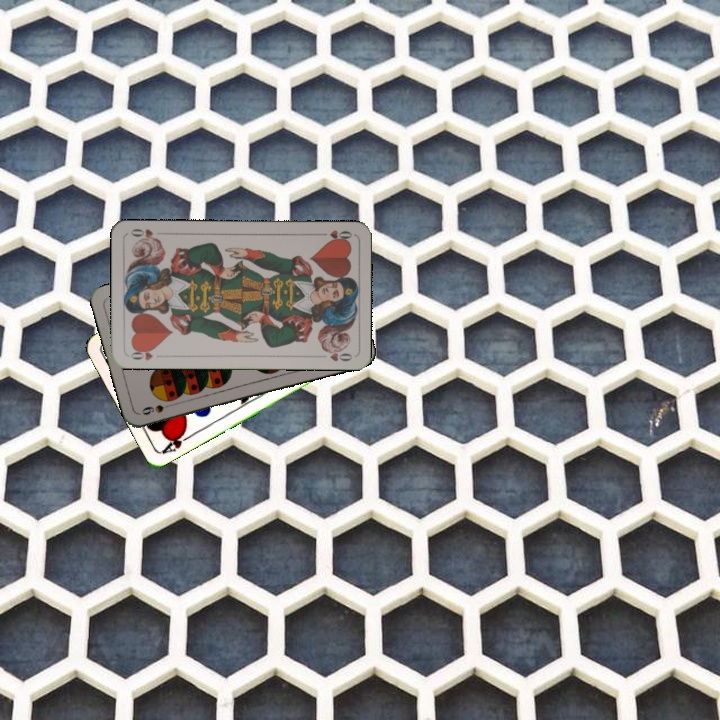HA: (158, 426, 196, 457)
HO: (314, 226, 354, 244), (127, 344, 158, 363)
S9: (138, 399, 177, 418)
